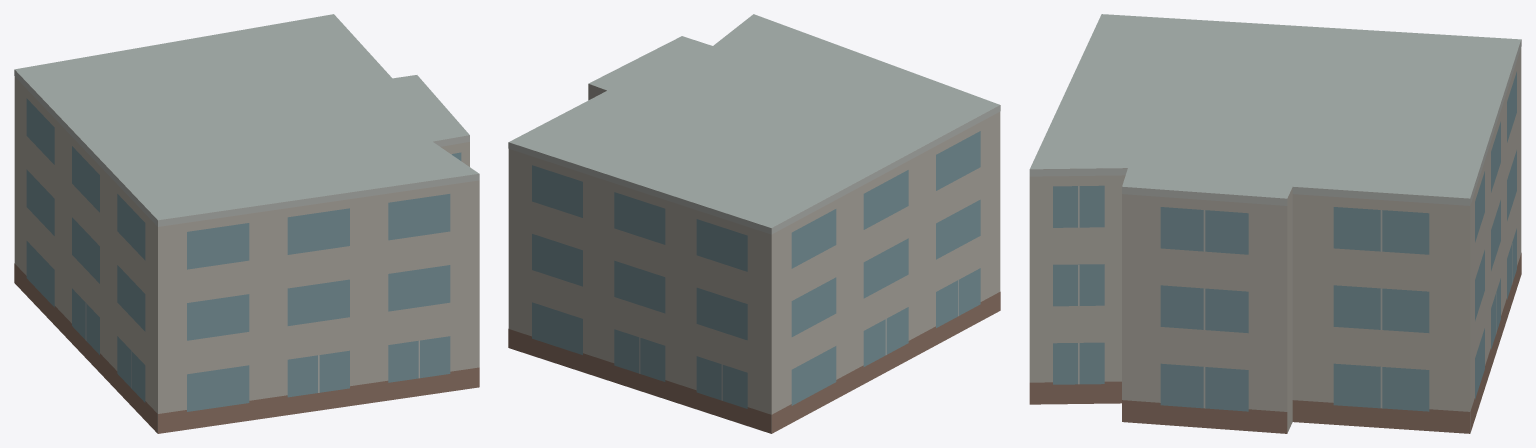
Rendered from survey-upis-32690104.glb.
3 renders of one model, left to right at view 1: azimuth 30°, elevation 25°; view 2: azimuth 150°, elevation 25°; view 3: azimuth 270°, elevation 25°, orthographic. The views are drawn at different scales.
Parts seen in each view (by area): view 1: survey-upis-32690104.tmp; view 2: survey-upis-32690104.tmp; view 3: survey-upis-32690104.tmp.
Boxes of the visible parts, x1=… form: survey-upis-32690104.tmp: x1=14, y1=14, x2=479, y2=433; survey-upis-32690104.tmp: x1=508, y1=14, x2=1000, y2=433; survey-upis-32690104.tmp: x1=1029, y1=14, x2=1521, y2=433.
Size of the model in its own units: 13.14 by 7.8 by 14.79.
